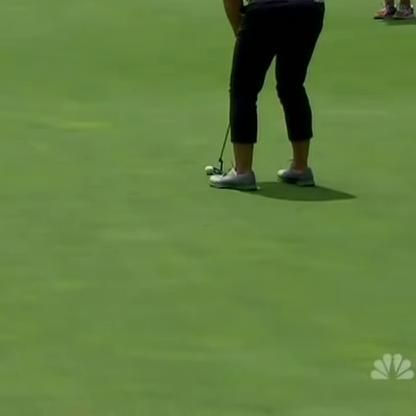golfball: (203, 162, 213, 172)
